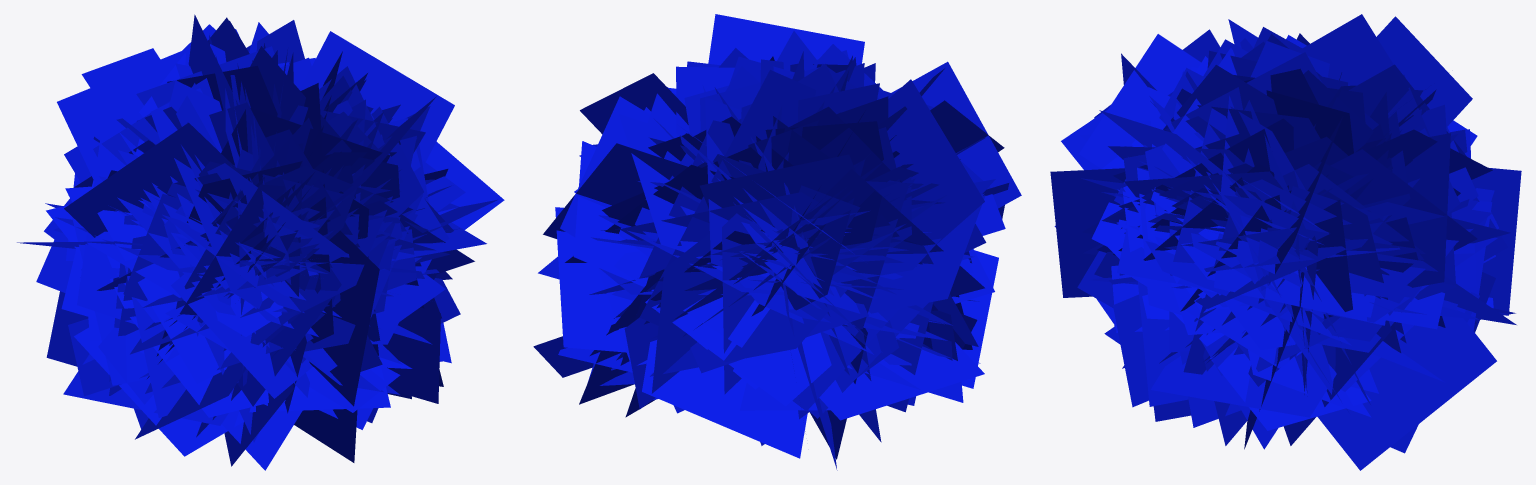
Rendered from Buisson_LowPoly_3.fbx.
3 views of the same model, side by side, from view 1: azimuth 30°, elevation 25°; view 2: azimuth 150°, elevation 25°; view 3: azimuth 270°, elevation 25° (orthographic).
Visible parts, largest first — view 1: Plane.001; view 2: Plane.001; view 3: Plane.001.
Boxes of the visible parts, x1,y1,x2,y2 form: Plane.001: [17, 14, 504, 470]; Plane.001: [533, 14, 1021, 470]; Plane.001: [1050, 14, 1521, 470].
Bounding box in the file's own units: 2.77 × 2.48 × 2.78.
